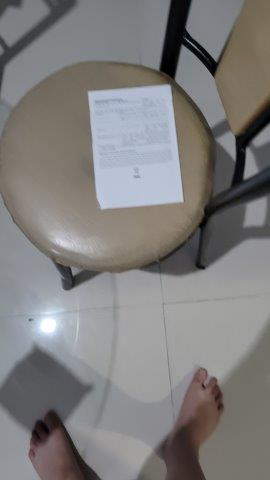kertas: (86, 83, 184, 208)
